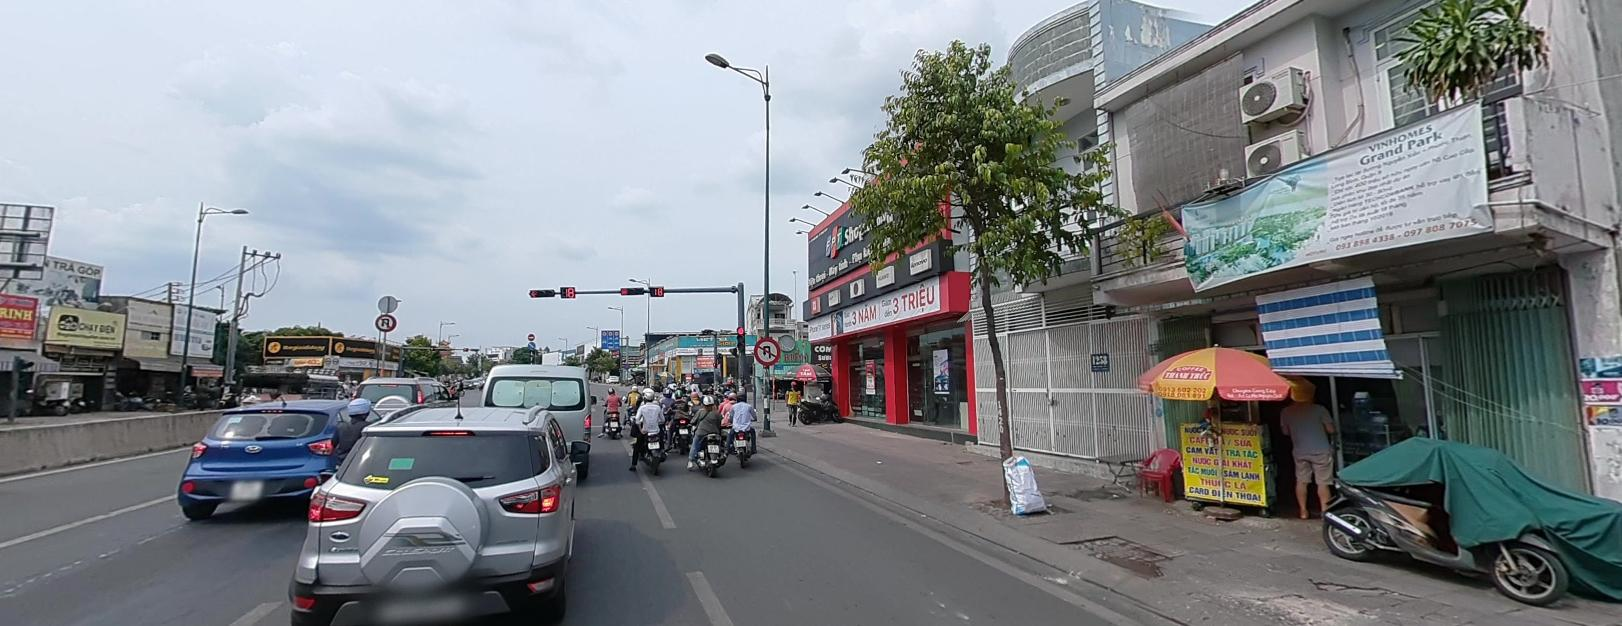Cam con lai: (602, 330, 606, 334), (608, 330, 611, 334), (614, 330, 617, 334)
Cam dung va do: (623, 362, 629, 368)
Cam nguoc chieu: (525, 331, 534, 339)
Cam re: (751, 334, 780, 362), (373, 312, 396, 329)
Hieu lenh: (527, 340, 535, 348)
